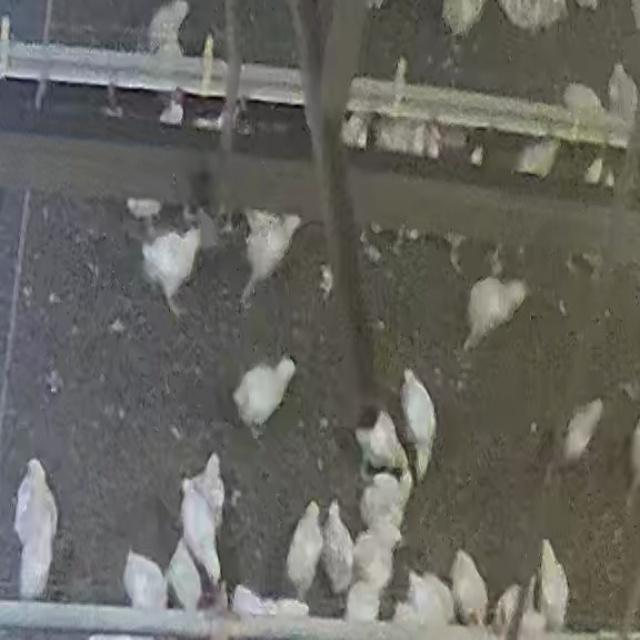chicken: (14, 458, 59, 598), (240, 208, 300, 300), (175, 480, 223, 591), (231, 356, 297, 436), (462, 275, 530, 351), (141, 230, 198, 313), (399, 366, 438, 477), (572, 84, 608, 190), (347, 521, 403, 589), (286, 498, 323, 600), (353, 410, 404, 478), (320, 500, 354, 597), (450, 548, 491, 624), (560, 398, 604, 468), (399, 570, 452, 628), (537, 539, 570, 632), (122, 550, 169, 611), (361, 473, 406, 535), (165, 540, 203, 611), (608, 65, 640, 146), (190, 453, 224, 523), (147, 3, 185, 57), (516, 139, 558, 178)
